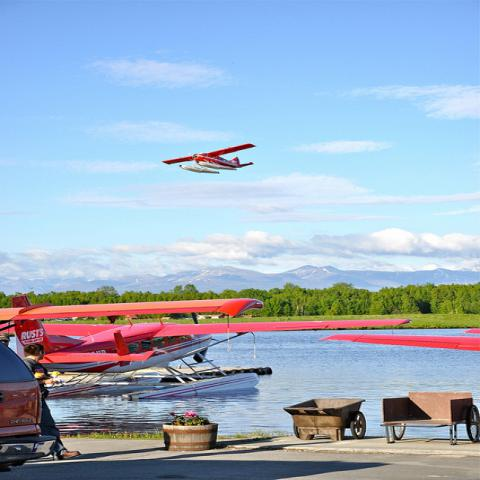truck: (2, 344, 51, 469)
